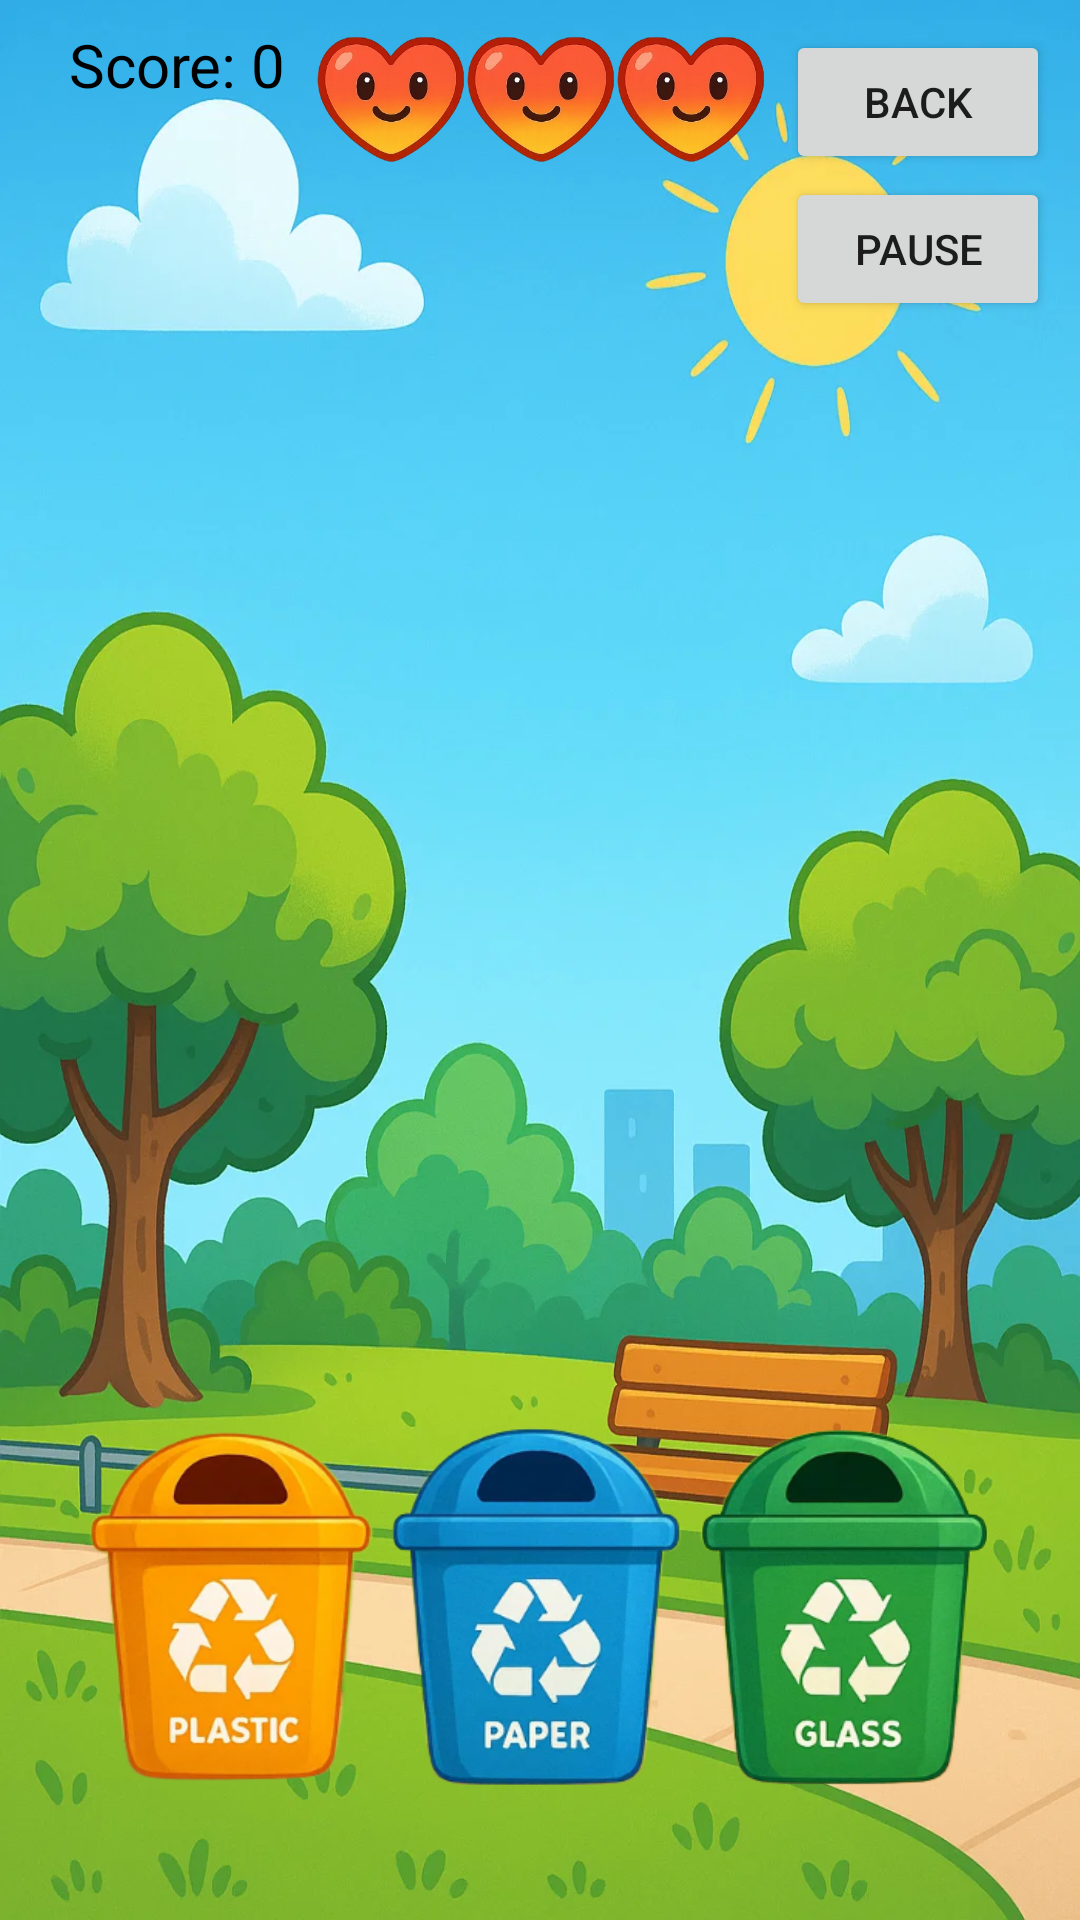

Locate icon controls on the screen. Image size 1080x1920, boxes as (x1, y1, x2, y2).
heart: (317, 37, 464, 162), (467, 37, 614, 162), (617, 37, 764, 162)
